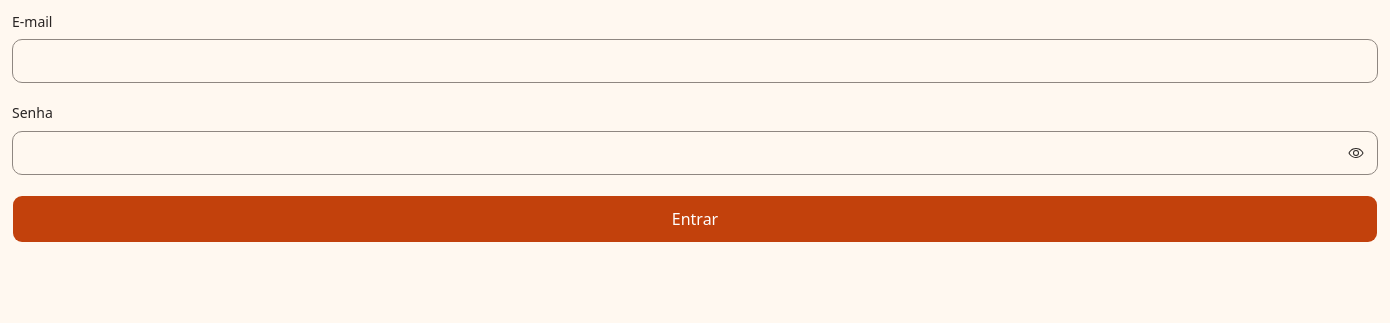
SignInForm › shows a single message for wrong credentials
This screenshot has width=1390, height=323.
Type " ana@example.com " into the field labelled "E-mail".
click(695, 61); type(" ana@example.com ")  # box [12, 39, 1378, 83]
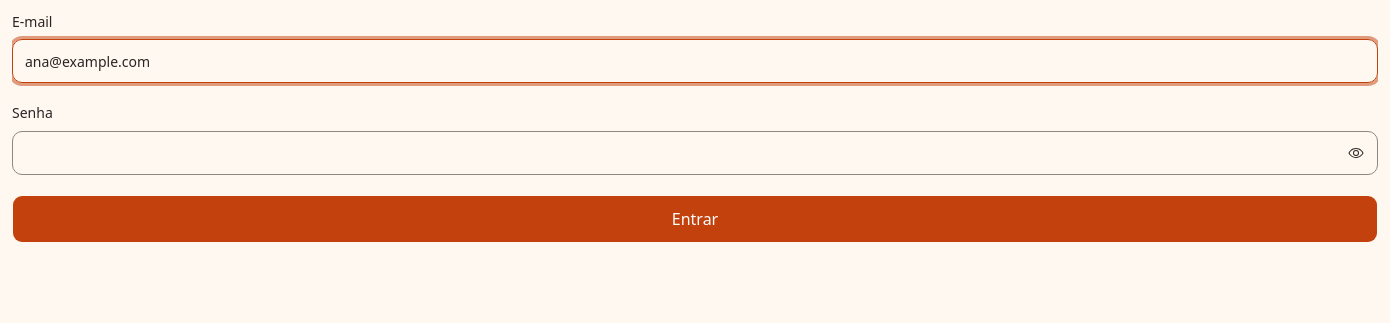
Type "secret" into the password field labelled "Senha".
click(695, 152); type("secret")  # box [12, 130, 1378, 174]
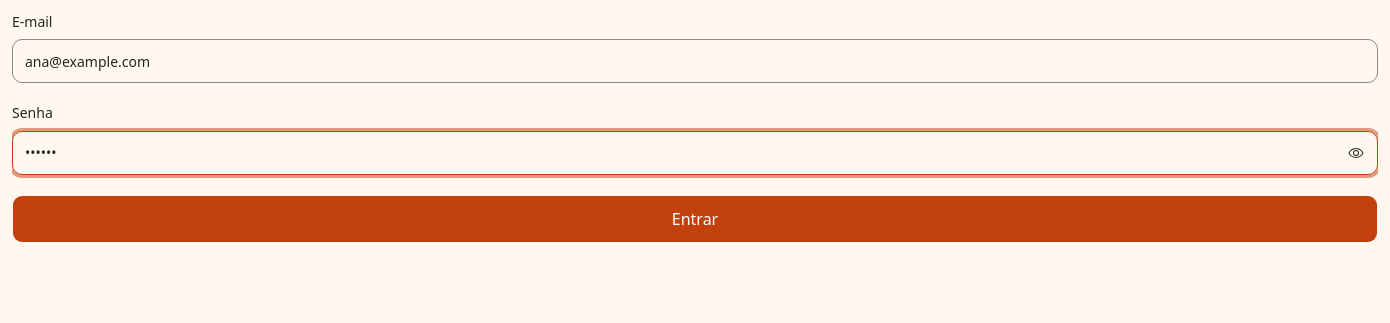
Click the button "Entrar".
click(695, 218)  # box [12, 194, 1378, 242]
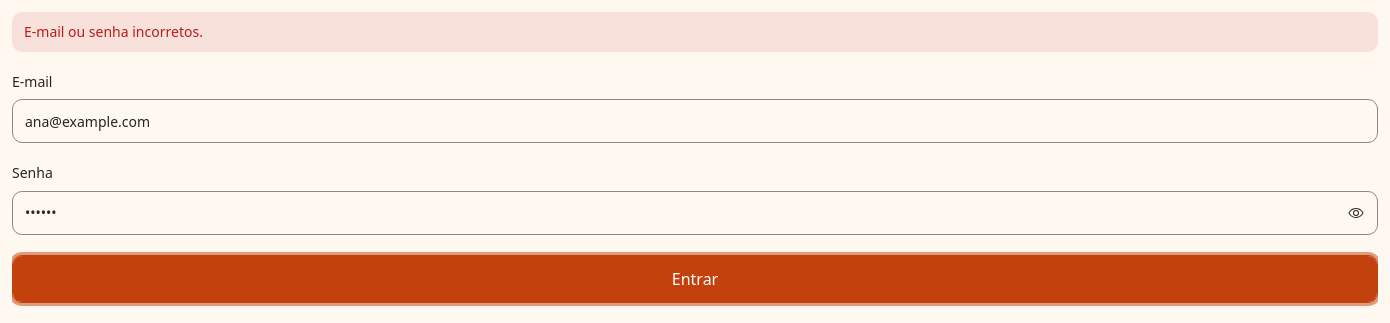
Now the message reads "E-mail ou senha incorretos.", box [24, 22, 203, 41]
